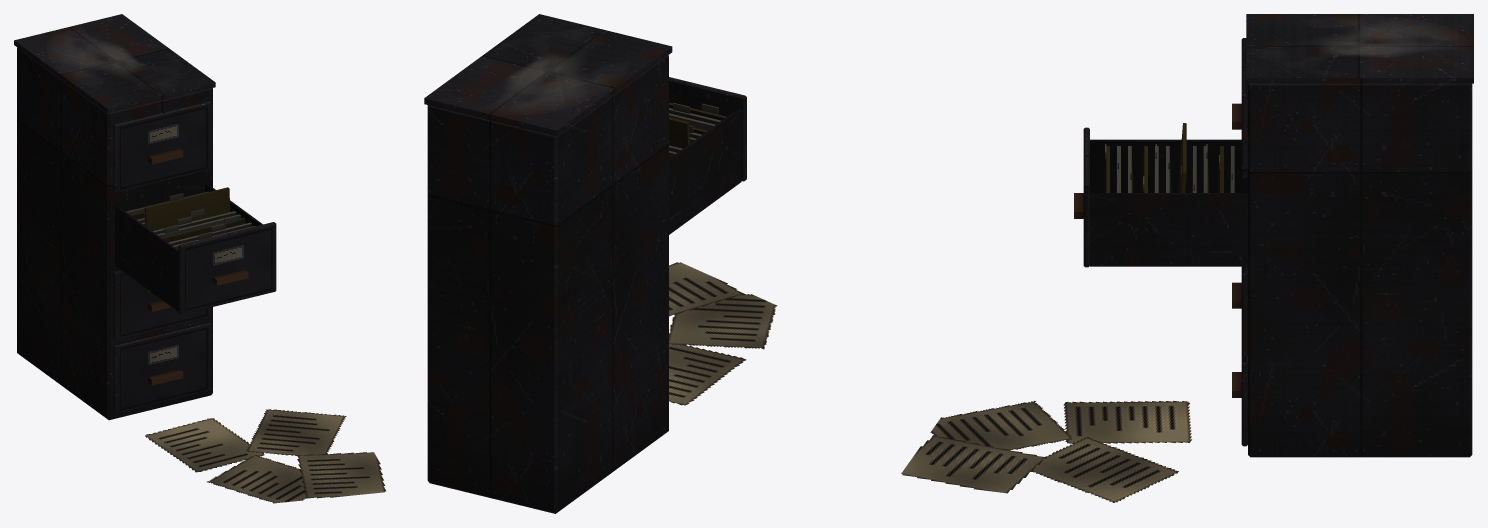
The model's file is file_cabinet_open.glb.
3 renders of one model, left to right at view 1: azimuth 30°, elevation 25°; view 2: azimuth 150°, elevation 25°; view 3: azimuth 270°, elevation 25°, orthographic. The views are drawn at different scales.
Visible parts, largest first — view 1: body, panels, decals; view 2: body, decals; view 3: body, decals.
Boxes of the visible parts, x1,y1,x2,y2 form: body: (14, 14, 276, 420); panels: (117, 103, 274, 413); decals: (53, 34, 385, 503); body: (424, 14, 746, 513); decals: (500, 55, 777, 405); body: (1074, 14, 1473, 457); decals: (901, 19, 1456, 502).
Size of what is drawn, in the model's own units: 1.12 by 1.33 by 1.83.
8 materials, 5 textured.
